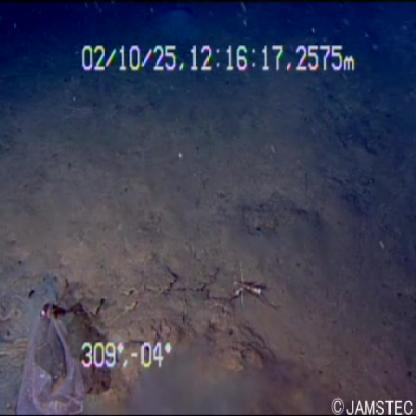Rác: (16, 278, 94, 416)
